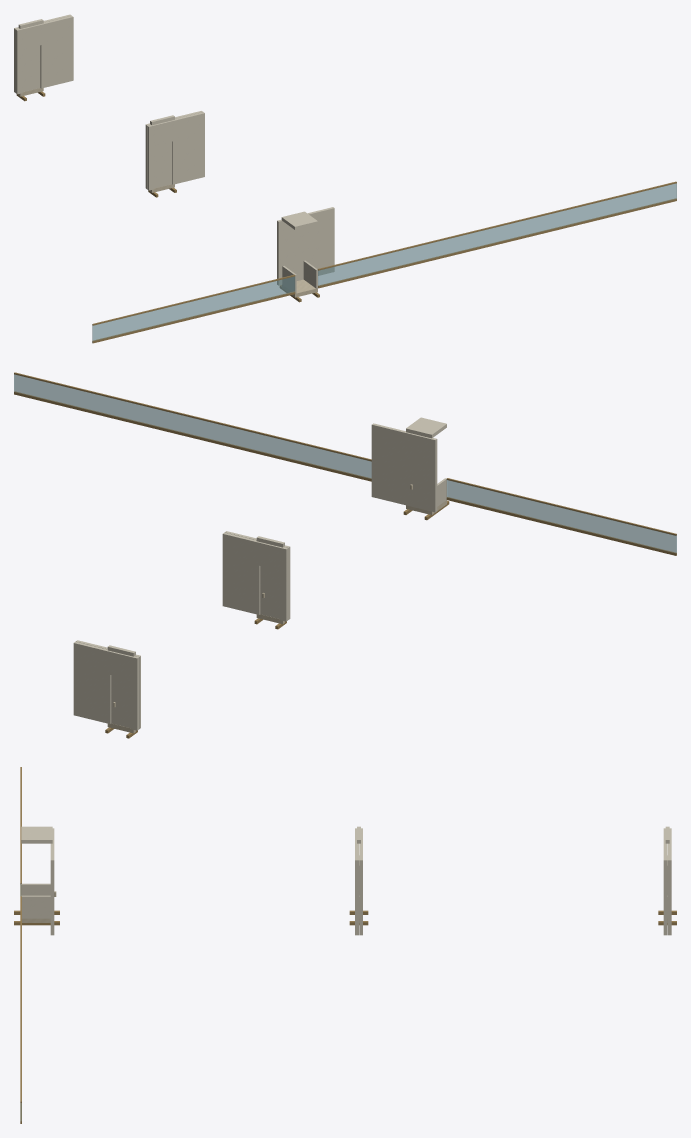
Rendered from D04_PORT_FORWARD_PRIVATE_COURT_SERVICE_CANDIDATE_r001.glb.
The picture shows the model from 3 angles, top to bottom: view 1: azimuth 30°, elevation 25°; view 2: azimuth 150°, elevation 25°; view 3: azimuth 270°, elevation 25°; orthographic projection. The views are drawn at different scales.
Visible parts, largest first — view 1: D04PCS_D04PF_UpperGuard_14_Right, D04PCS_D04PF_UpperGuard_14_Left, D04PCS_D04HC2_east_End_0_Right, D04PCS_D04HC_east_End_0_Right, D04PCS_D04HC_east_End_1_Right, D04PCS_D04PF_UpperGuard_14_Base_Right, D04PCS_D04PF_UpperGuard_14_Cap_Right, D04PCS_OpaqueGate_2, D04PCS_OpaqueGate_1, D04PCS_D04PF_UpperGuard_14_Base_Left, D04PCS_OpaqueGate_0, D04PCS_D04PF_UpperGuard_14_Cap_Left (+2 smaller); view 2: D04PCS_D04PF_UpperGuard_14_Right, D04PCS_D04PF_UpperGuard_14_Left, D04PCS_D04HC2_east_End_1_Right, D04PCS_D04HC3_east_End_1_Right, D04PCS_D04HC_east_End_1_Right, D04PCS_D04PF_UpperGuard_14_Base_Right, D04PCS_OpaqueGate_0, D04PCS_D04PF_UpperGuard_14_Cap_Right, D04PCS_OpaqueGate_2, D04PCS_OpaqueGate_1, D04PCS_D04PF_UpperGuard_14_Base_Left, D04PCS_D04HC2_east_End_1_Left (+4 smaller); view 3: D04PCS_LinkEdge_0_1, D04PCS_LinkRoof_0.
Boxes of the visible parts, left/top/right/bottom form: D04PCS_D04PF_UpperGuard_14_Right: left=318, top=183, right=676, bottom=285; D04PCS_D04PF_UpperGuard_14_Left: left=92, top=276, right=295, bottom=340; D04PCS_D04HC2_east_End_0_Right: left=40, top=16, right=73, bottom=88; D04PCS_D04HC_east_End_0_Right: left=172, top=112, right=204, bottom=184; D04PCS_D04HC_east_End_1_Right: left=302, top=207, right=334, bottom=279; D04PCS_D04PF_UpperGuard_14_Base_Right: left=318, top=198, right=676, bottom=288; D04PCS_D04PF_UpperGuard_14_Cap_Right: left=317, top=181, right=676, bottom=270; D04PCS_OpaqueGate_2: left=22, top=45, right=40, bottom=91; D04PCS_OpaqueGate_1: left=154, top=141, right=171, bottom=188; D04PCS_D04PF_UpperGuard_14_Base_Left: left=92, top=291, right=295, bottom=343; D04PCS_OpaqueGate_0: left=284, top=236, right=302, bottom=280; D04PCS_D04PF_UpperGuard_14_Cap_Left: left=92, top=274, right=295, bottom=325; D04PCS_D04PF_UpperGuard_14_Right: left=14, top=374, right=371, bottom=478; D04PCS_D04PF_UpperGuard_14_Left: left=447, top=480, right=676, bottom=553; D04PCS_D04HC2_east_End_1_Right: left=222, top=532, right=260, bottom=614; D04PCS_D04HC3_east_End_1_Right: left=73, top=641, right=111, bottom=723; D04PCS_D04HC_east_End_1_Right: left=371, top=423, right=408, bottom=505; D04PCS_D04PF_UpperGuard_14_Base_Right: left=14, top=391, right=371, bottom=481; D04PCS_OpaqueGate_0: left=408, top=456, right=429, bottom=510; D04PCS_D04PF_UpperGuard_14_Cap_Right: left=14, top=372, right=371, bottom=461; D04PCS_OpaqueGate_2: left=111, top=675, right=131, bottom=728; D04PCS_OpaqueGate_1: left=260, top=566, right=280, bottom=618; D04PCS_D04PF_UpperGuard_14_Base_Left: left=446, top=497, right=676, bottom=555; D04PCS_D04HC2_east_End_1_Left: left=280, top=547, right=288, bottom=621; D04PCS_LinkEdge_0_1: left=21, top=895, right=50, bottom=918; D04PCS_LinkRoof_0: left=21, top=826, right=52, bottom=843.
Bounding box in the file's own units: 37.95 × 4.56 × 31.8.
Materials: 4 (3 with a texture image).
